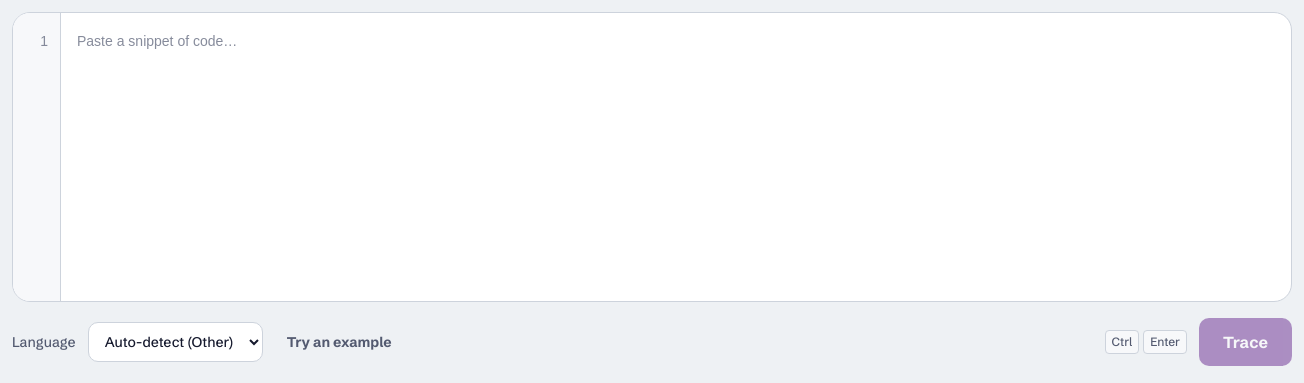
Test: TraceView › fills the editor with an example
The width and height of the screenshot is (1304, 383).
Click the button "Try an example": x=339, y=342 x1=275 y1=324 x2=404 y2=360
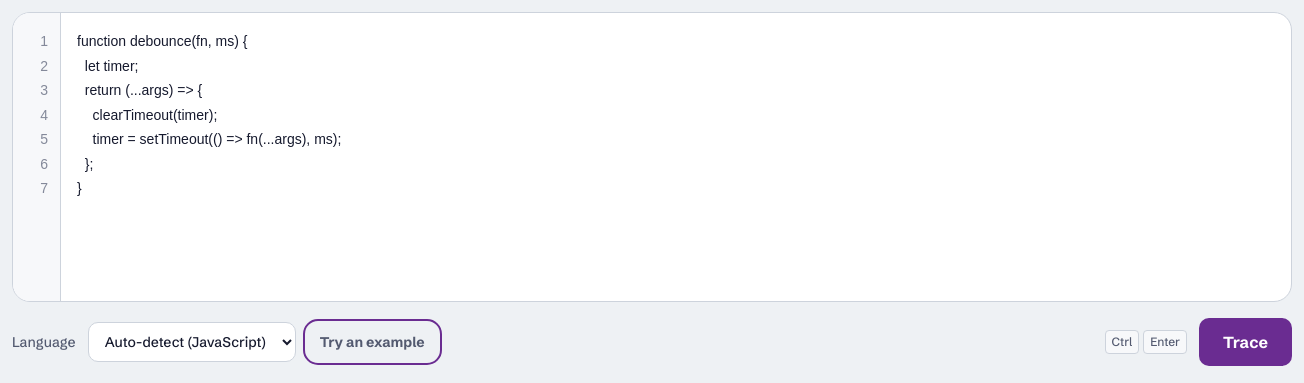
Expected: the text box named "Code snippet" holds "function debounce(fn, ms) {   let timer;   return (...args) => {     clearTimeout(timer);     timer = setTimeout(() => fn(...args), ms);   }; }"
